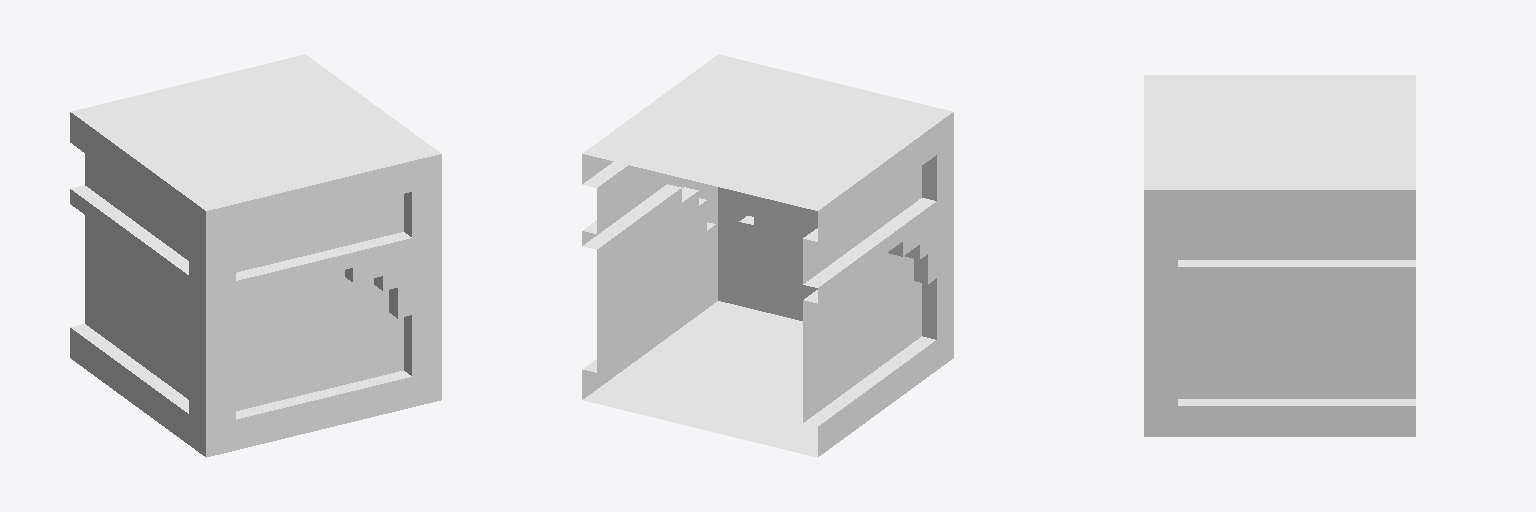
File: end.obj
3 renders of one model, left to right at view 1: azimuth 30°, elevation 25°; view 2: azimuth 150°, elevation 25°; view 3: azimuth 270°, elevation 25°, orthographic.
Size of the model in its own units: 1 by 1 by 1.